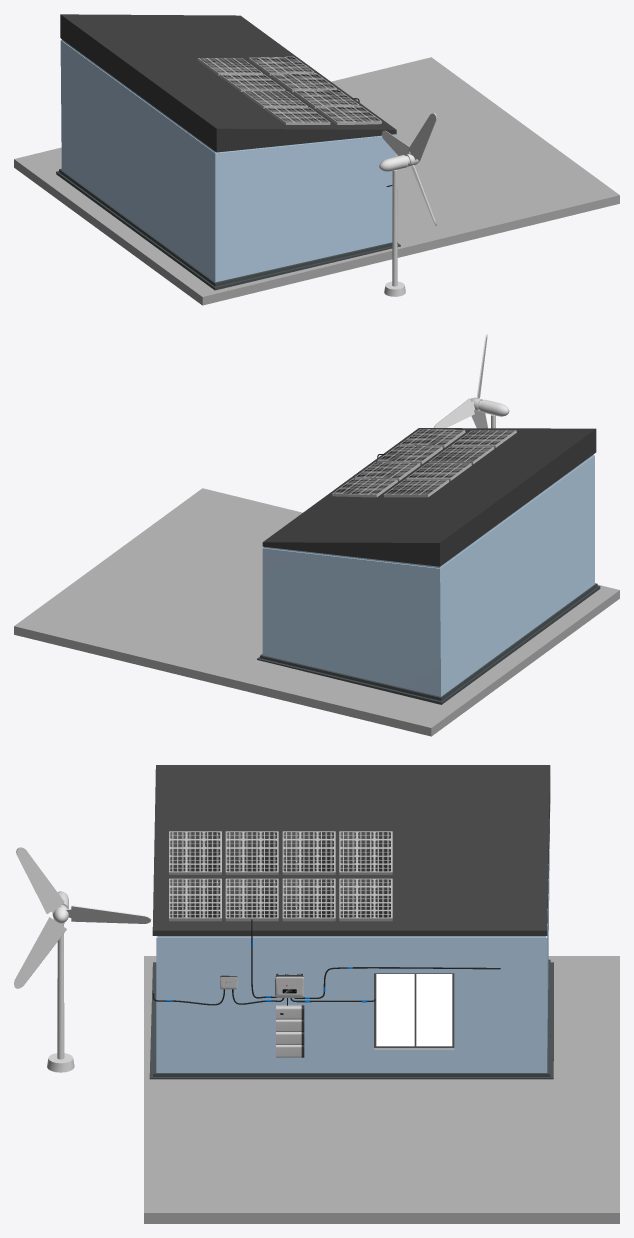
3 renders of one model, top to bottom at view 1: azimuth 30°, elevation 25°; view 2: azimuth 150°, elevation 25°; view 3: azimuth 270°, elevation 25°, orthographic. The views are drawn at different scales.
Visible parts, largest first — view 1: 立方体.020, 立方体.022, 房顶, 底座, 立方体.023, 立方体.026, 立方体.024, 立方体.027, 立方体.025, 立方体.029, 立方体.028, 立方体.030 (+3 smaller); view 2: 立方体.022, 立方体.020, 房顶, 底座, 立方体.026, 立方体.030, 立方体.024, 立方体.025, 立方体.023, 立方体.028, 立方体.029, 立方体.027 (+1 smaller); view 3: 立方体.022, 房顶, 立方体.020, 立方体.6, 底座, 立方体.026, 立方体.028, 立方体.029, 立方体.030, 立方体.025, 立方体.024, 立方体.023 (+6 smaller).
Boxes of the visible parts, x1,y1,x2,y2 form: 立方体.020: [60, 39, 395, 282]; 立方体.022: [14, 57, 619, 305]; 房顶: [60, 14, 396, 152]; 底座: [56, 168, 400, 290]; 立方体.023: [316, 106, 381, 124]; 立方体.026: [248, 56, 314, 75]; 立方体.024: [293, 89, 359, 108]; 立方体.027: [265, 107, 330, 124]; 立方体.025: [271, 73, 336, 92]; 立方体.029: [220, 74, 285, 91]; 立方体.028: [242, 91, 307, 108]; 立方体.030: [197, 58, 262, 75]; 立方体.022: [14, 488, 619, 736]; 立方体.020: [262, 454, 594, 696]; 房顶: [262, 428, 596, 566]; 底座: [257, 583, 600, 704]; 立方体.026: [332, 478, 397, 497]; 立方体.030: [383, 479, 449, 497]; 立方体.024: [377, 445, 442, 464]; 立方体.025: [354, 462, 420, 480]; 立方体.023: [399, 429, 465, 447]; 立方体.028: [428, 446, 494, 464]; 立方体.029: [406, 463, 471, 480]; 立方体.027: [451, 430, 516, 447]; 立方体.022: [144, 956, 619, 1223]; 房顶: [152, 765, 550, 935]; 立方体.020: [156, 804, 550, 1072]; 立方体.6: [376, 974, 452, 1046]; 底座: [149, 959, 553, 1079]; 立方体.026: [339, 878, 392, 921]; 立方体.028: [225, 831, 278, 874]; 立方体.029: [282, 831, 335, 874]; 立方体.030: [339, 831, 392, 874]; 立方体.025: [282, 878, 335, 921]; 立方体.024: [225, 878, 278, 921]; 立方体.023: [169, 878, 221, 921].
Size of what is drawn, in the model's own units: 12.84 by 5.44 by 12.79.
Materials: 20 (3 with a texture image).
